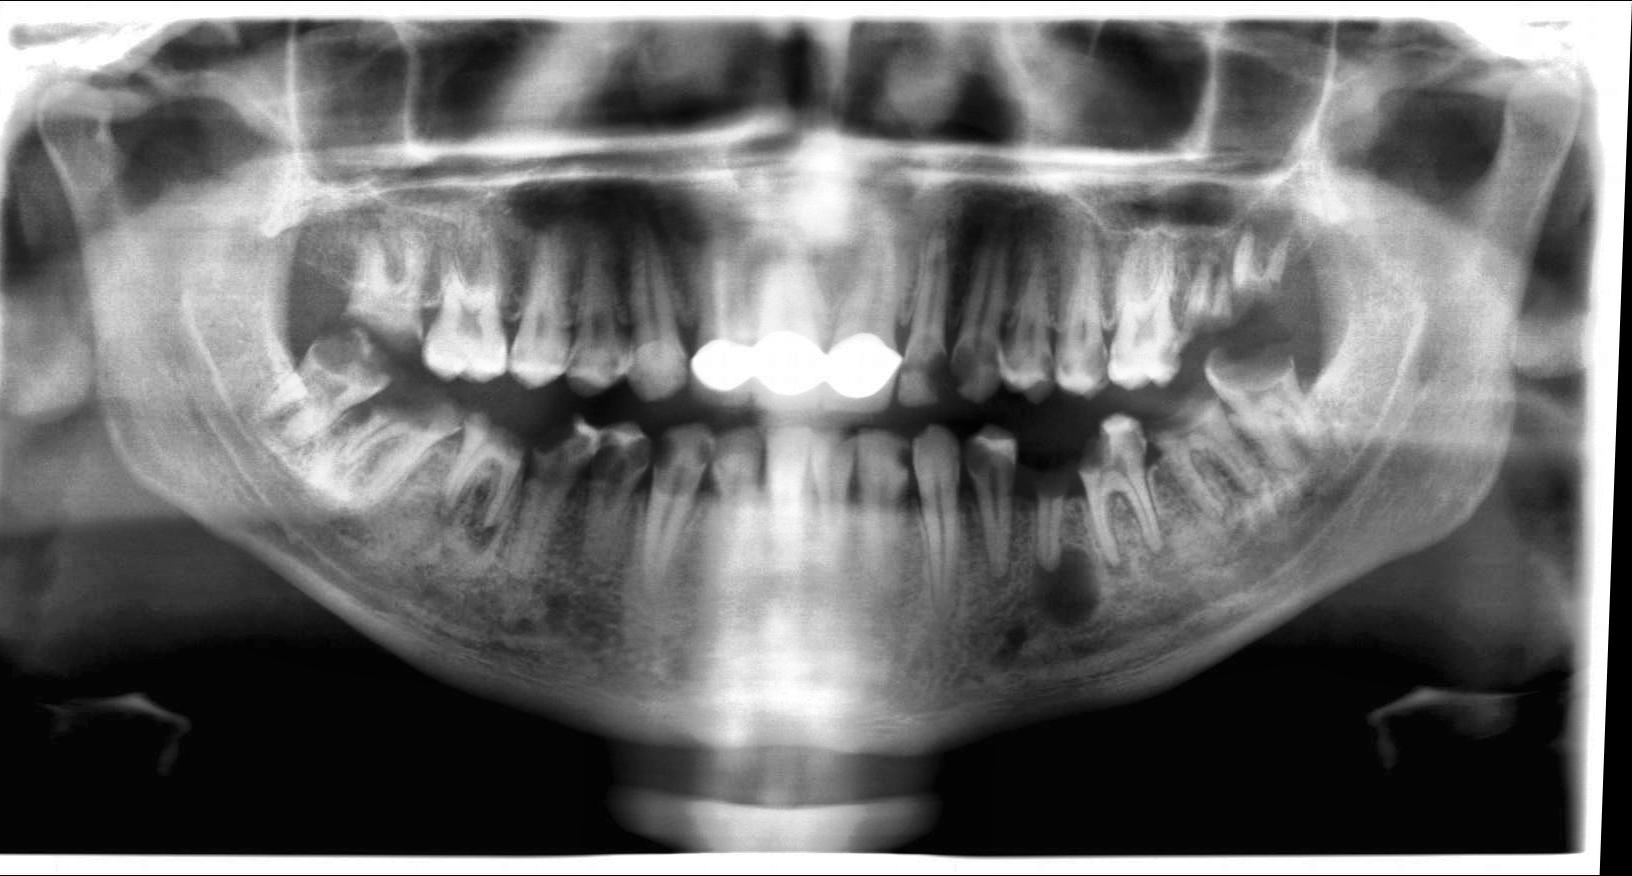radikuler: (1033, 543, 1109, 632)
